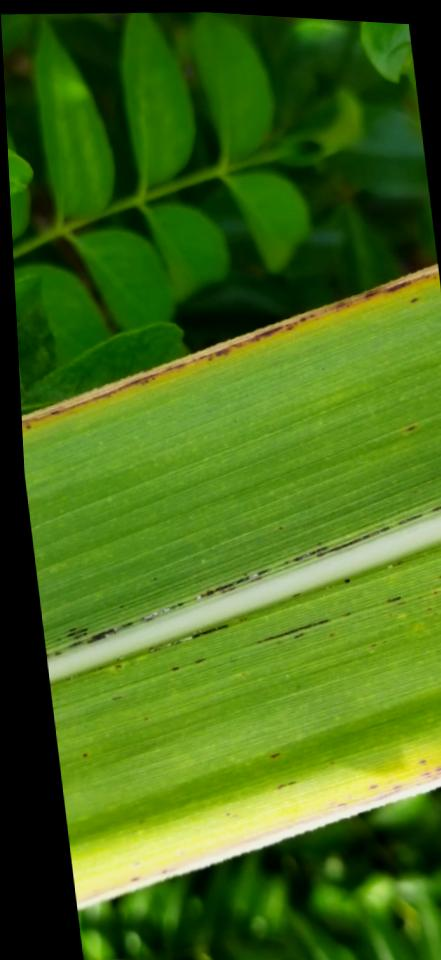Rust: (191, 567, 271, 603), (313, 525, 391, 560), (147, 623, 229, 656), (261, 617, 332, 643), (85, 621, 134, 646), (137, 601, 184, 624), (290, 544, 329, 564), (396, 513, 423, 526), (273, 779, 299, 792), (65, 627, 88, 639), (71, 632, 88, 641), (219, 586, 236, 595), (67, 639, 83, 648), (384, 596, 402, 604), (248, 576, 263, 585), (192, 656, 207, 665), (267, 751, 281, 760), (291, 632, 305, 641), (403, 424, 417, 433), (340, 611, 353, 618), (169, 666, 180, 674), (92, 665, 103, 673), (431, 505, 441, 513), (110, 696, 122, 702), (409, 297, 417, 305), (67, 626, 76, 633), (342, 578, 352, 584), (291, 592, 301, 598), (81, 753, 90, 759), (53, 651, 62, 657), (24, 424, 31, 431), (114, 664, 121, 670), (117, 605, 125, 609)
Yellow: (22, 263, 439, 435)
